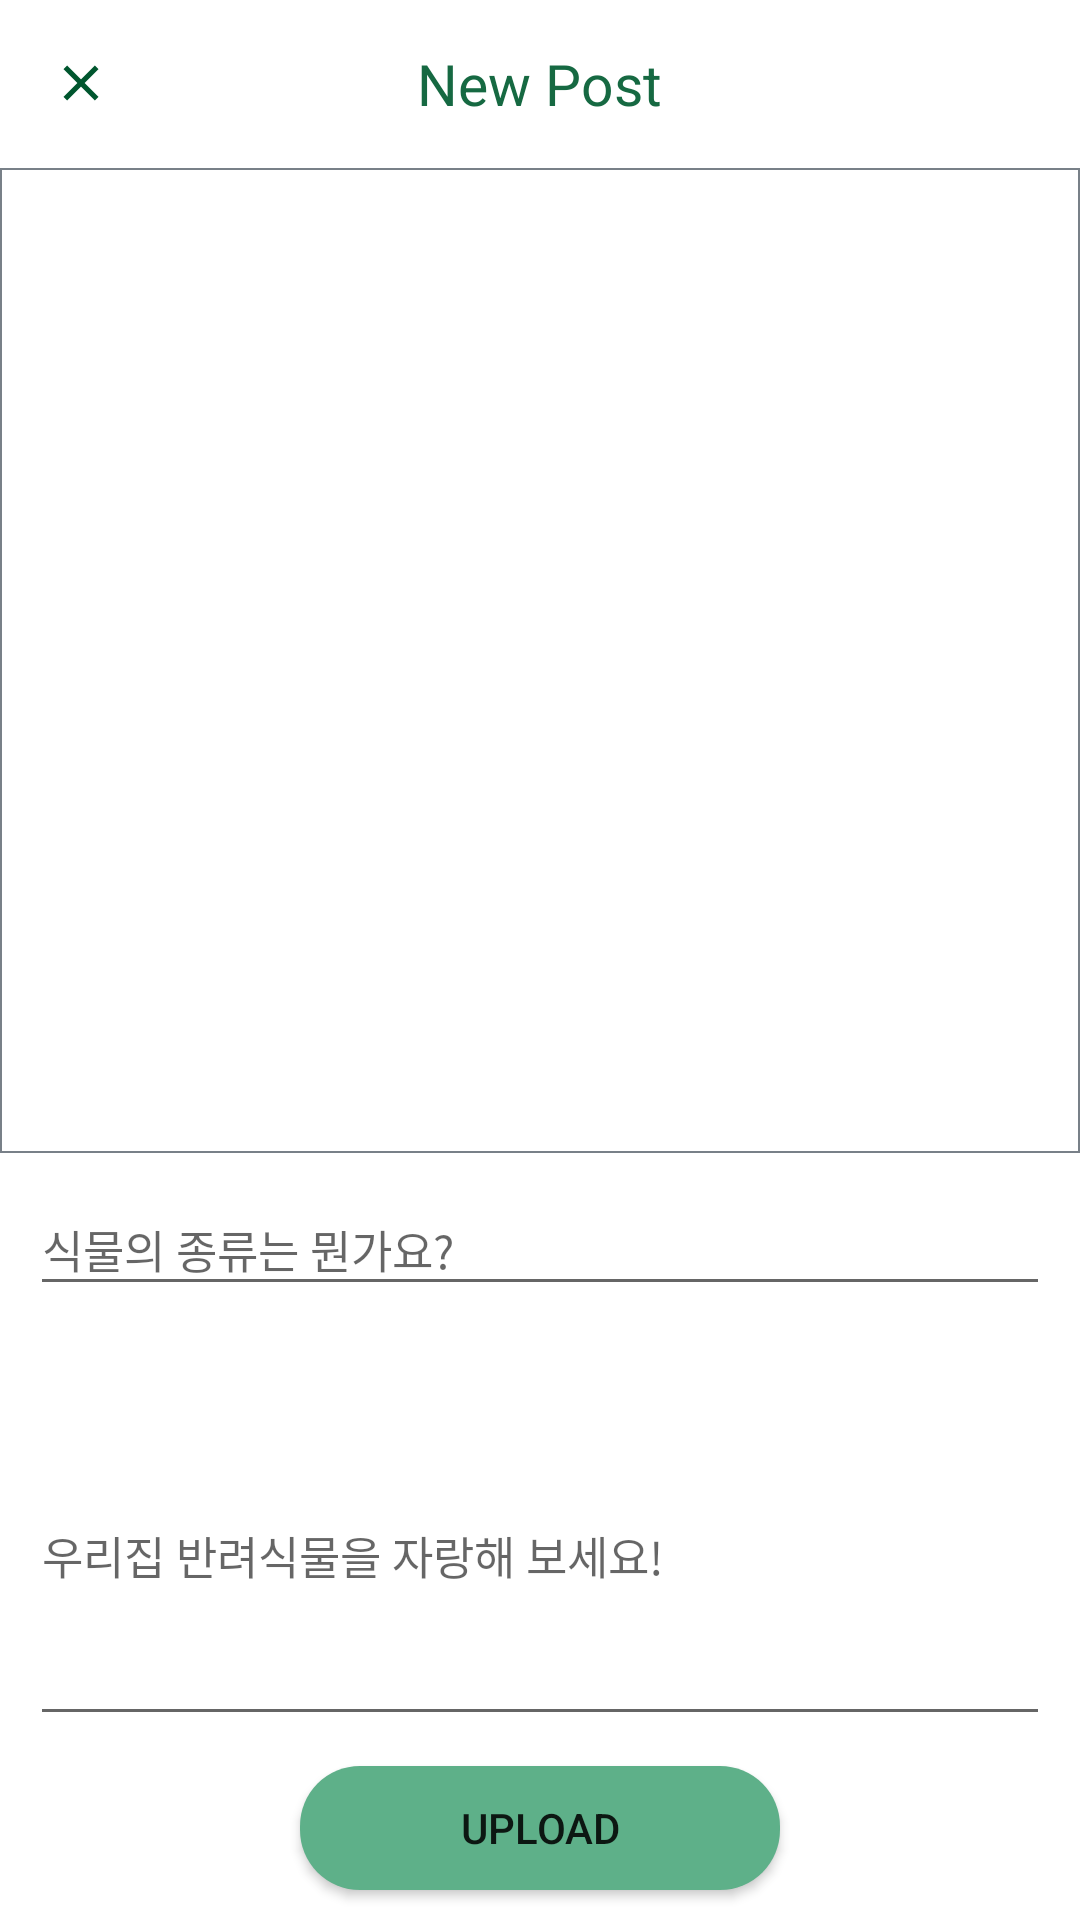

Named icons in this screenshot (1080x1920) and their bounding boxes, (x1, y1, x2, y2):
close: (63, 65, 99, 101)
